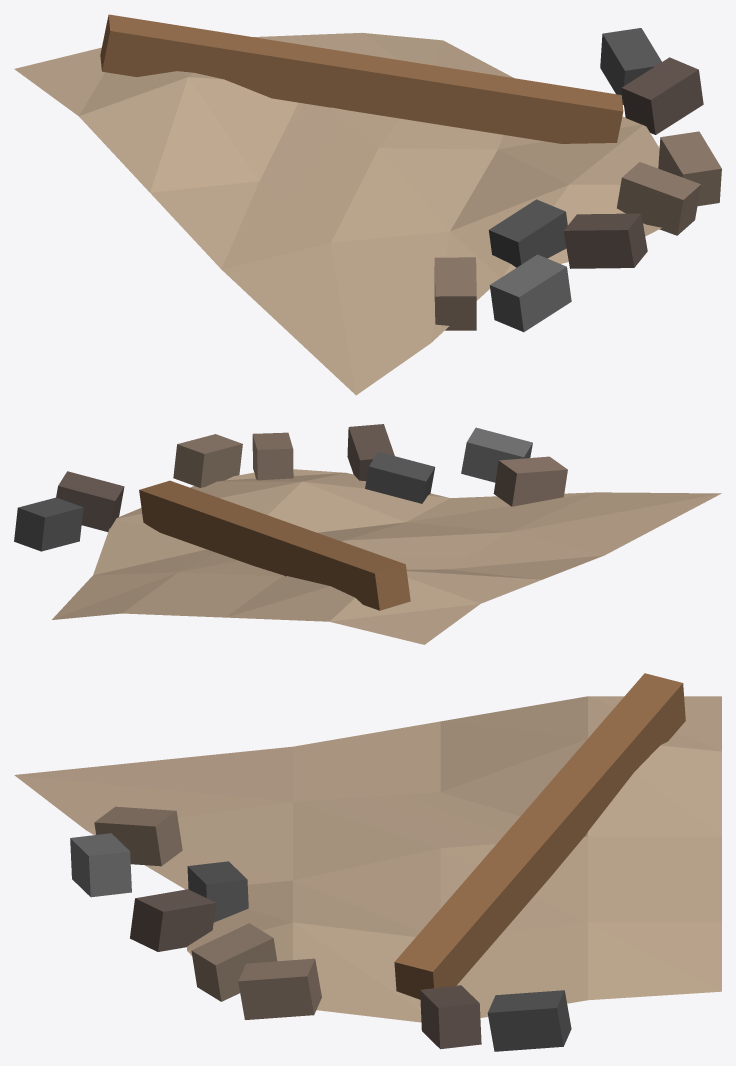
The model's file is rubbish_6.fbx.
3 renders of one model, top to bottom at view 1: azimuth 30°, elevation 25°; view 2: azimuth 150°, elevation 25°; view 3: azimuth 270°, elevation 25°, orthographic. The views are drawn at different scales.
Visible parts, largest first — view 1: Object.037; view 2: Object.037; view 3: Object.037.
Part boxes in pixels (bbox=[...]): Object.037: bbox=[14, 14, 721, 395]; Object.037: bbox=[14, 424, 721, 644]; Object.037: bbox=[14, 673, 721, 1051].
Size of the model in its own units: 927 by 212 by 992.
